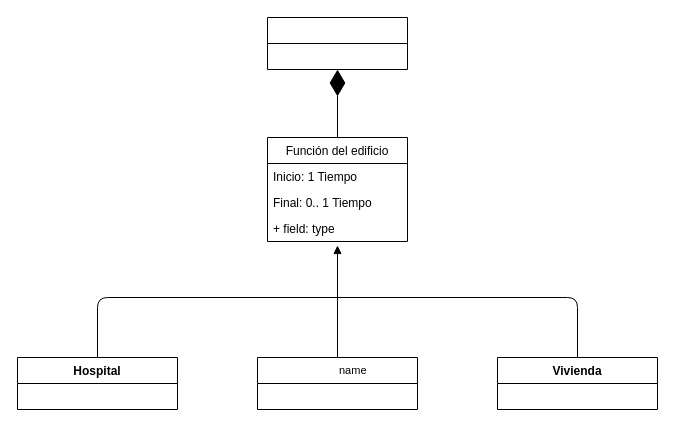
Image size: 675x427. Some labels were removed from this diagram. Each missing label, with the box of its shape:
Edificio: (266, 16, 408, 70)
Escuela: (256, 356, 418, 410)
